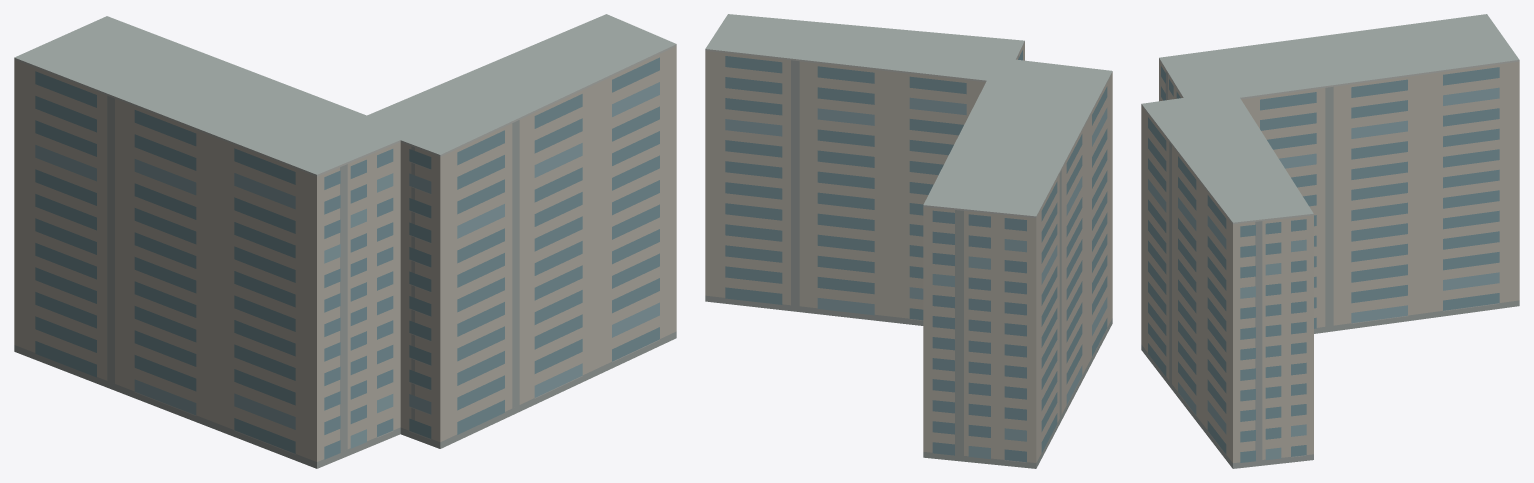
Rendered from residential-6a766f63-a077-4ebd-9734-8019b845a2e9.glb.
3 views of the same model, side by side, from view 1: azimuth 30°, elevation 25°; view 2: azimuth 150°, elevation 25°; view 3: azimuth 270°, elevation 25° (orthographic). The views are drawn at different scales.
Visible parts, largest first — view 1: residential-6a766f63-a077-4ebd-9734-8019b845a2e9.tmp; view 2: residential-6a766f63-a077-4ebd-9734-8019b845a2e9.tmp; view 3: residential-6a766f63-a077-4ebd-9734-8019b845a2e9.tmp.
Part boxes in pixels (x1,y1,x2,y2): residential-6a766f63-a077-4ebd-9734-8019b845a2e9.tmp: (14, 14, 676, 468); residential-6a766f63-a077-4ebd-9734-8019b845a2e9.tmp: (705, 14, 1112, 468); residential-6a766f63-a077-4ebd-9734-8019b845a2e9.tmp: (1141, 14, 1519, 468).
Bounding box in the file's own units: 66.52 × 36.6 × 50.94.
